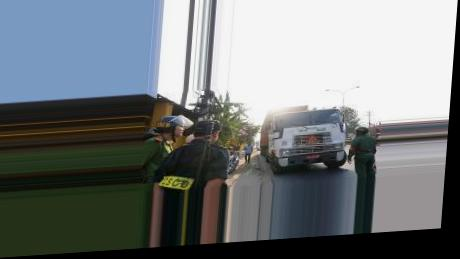License_Plate: (305, 153, 324, 163)
